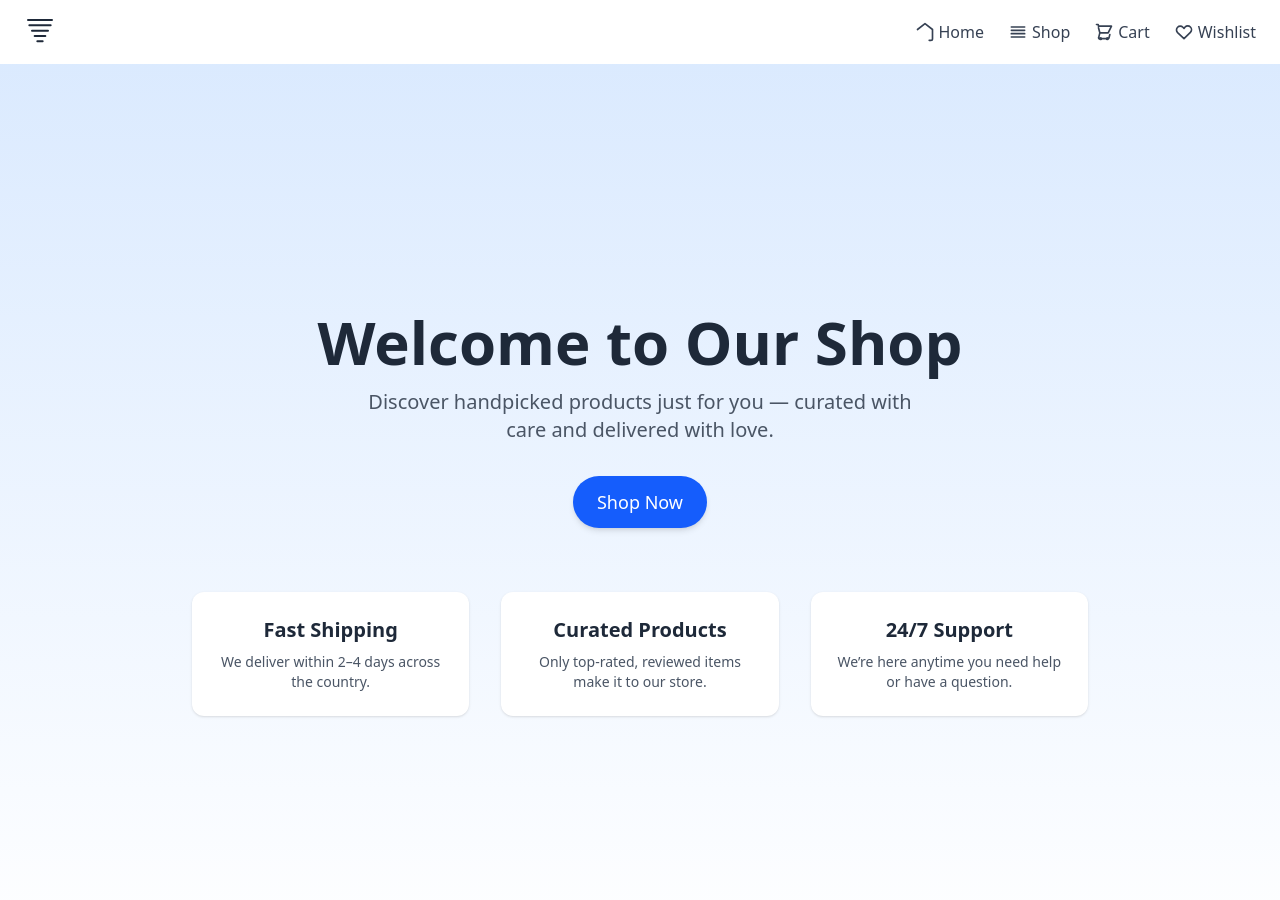
Test case: Router Integration Tests › navigates to the cart page
The image size is (1280, 900).
Click the link "Cart": point(1122, 32) [1094,20,1150,44]
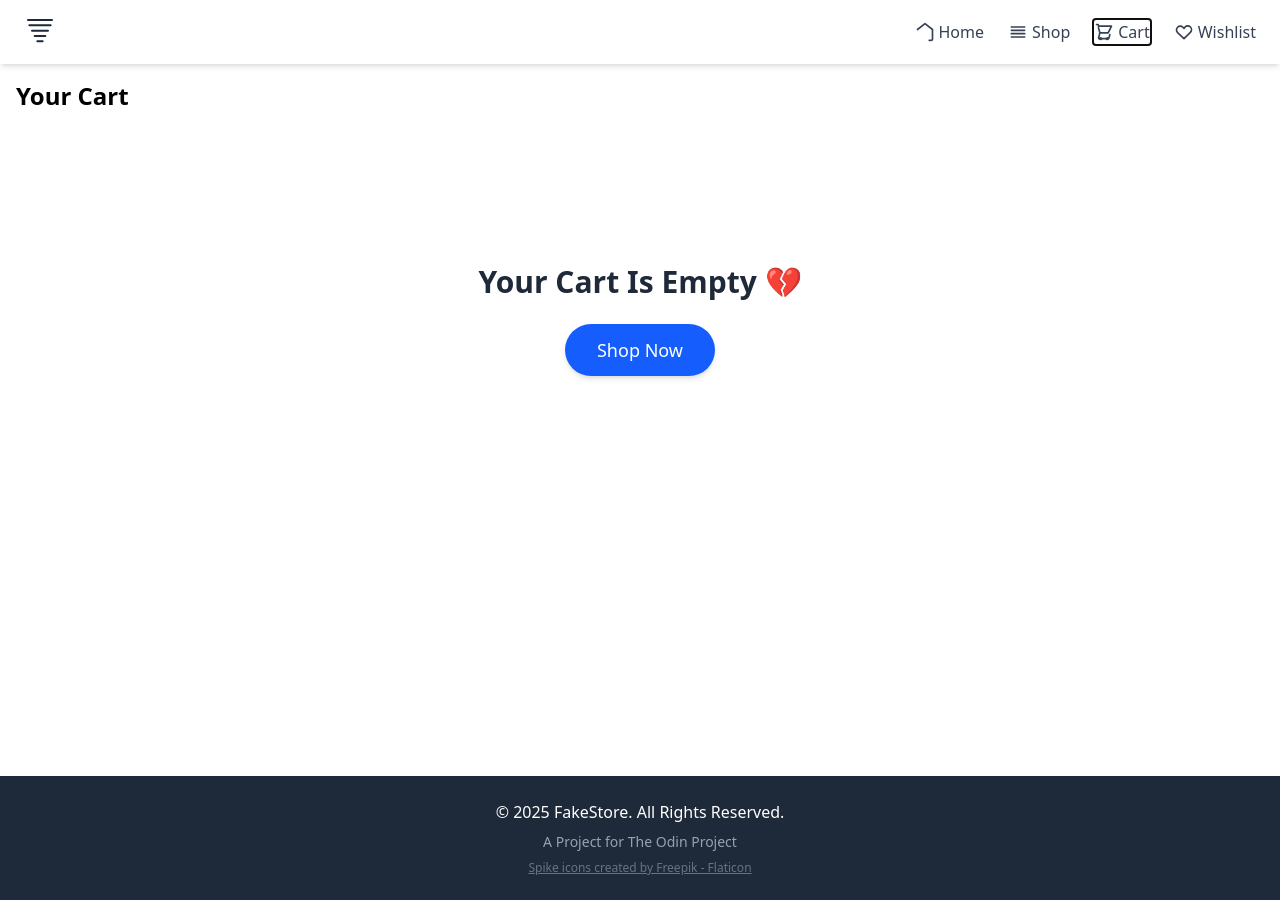
Check: the heading "Your Cart" is shown, box [16,79,129,112]
Check: the text "Your Cart Is Empty 💔" is shown, box [478,264,802,300]
